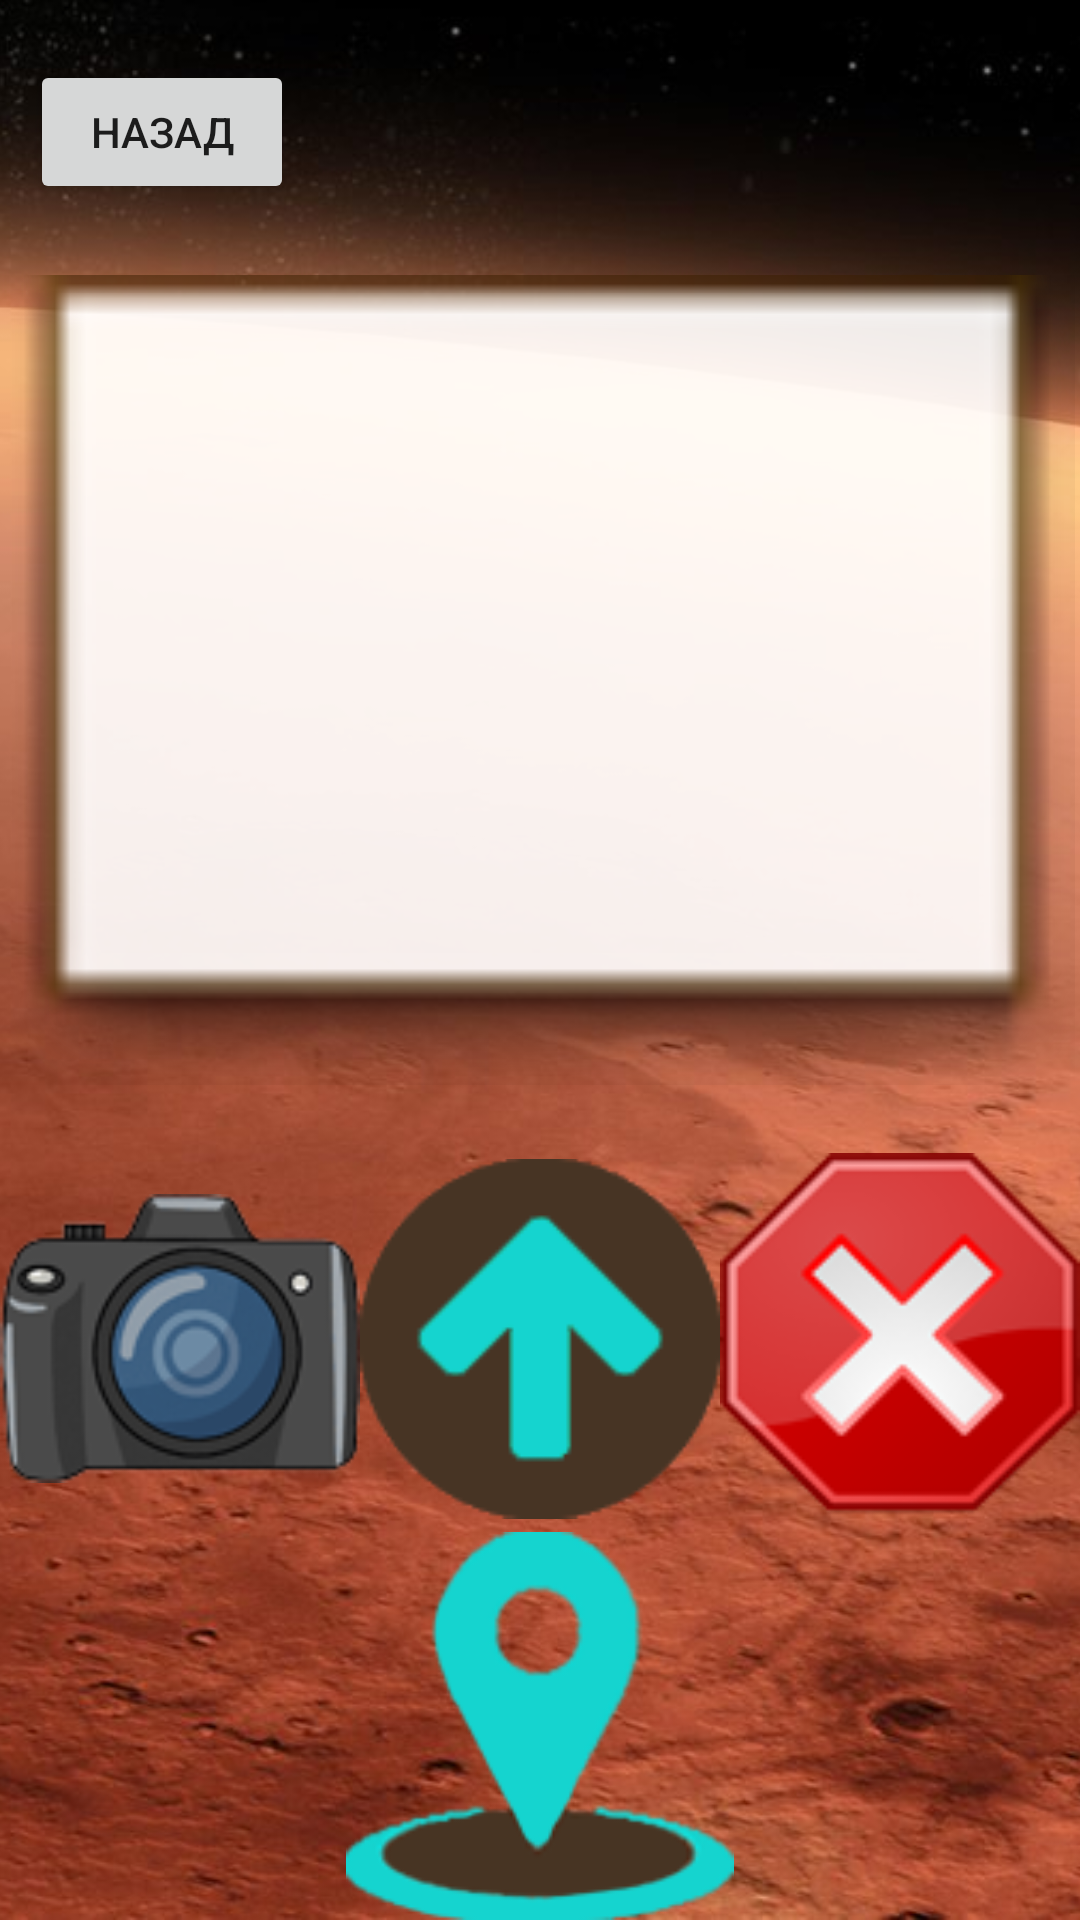

Screen size 1080px x 1920px. Icon name, then its center in pixels as [x,y]:
photo: [180,1361]
